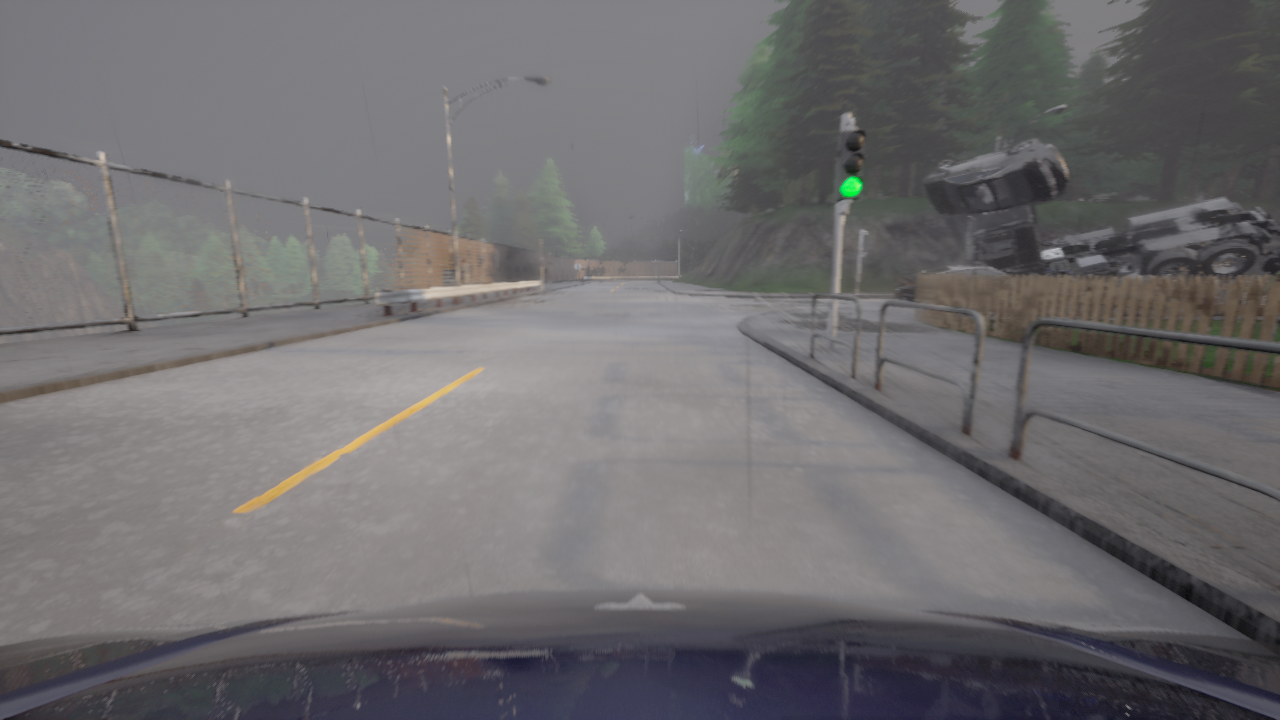cyclist: (0, 588, 1279, 719), (966, 197, 1279, 286), (923, 139, 1070, 220), (1071, 254, 1226, 303), (893, 261, 1052, 306), (1102, 247, 1201, 306), (1259, 247, 1279, 276), (1221, 278, 1235, 301), (1031, 269, 1050, 278)
pedestrian: (458, 258, 471, 295), (543, 263, 548, 287)
